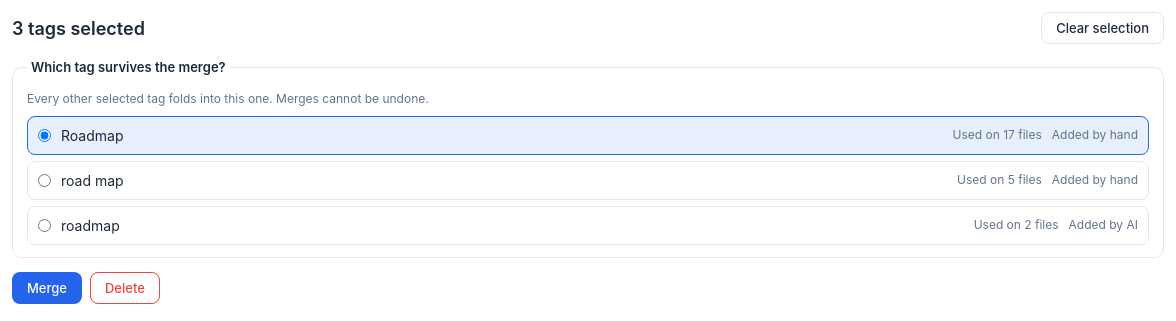
Test: TagBulkSummary › preselects the highest-usage tag as survivor and lets the user switch
Expected: the radio button labelled "Roadmap Used on 17 files Added by hand" is checked, 38,128 -> 51,142
Expected: the text "Used on 17 files" is shown, 952,126 -> 1042,144
Click the radio button labelled "roadmap Used on 2 files Added by AI".
click(44, 225)  # box 38,218 -> 51,232
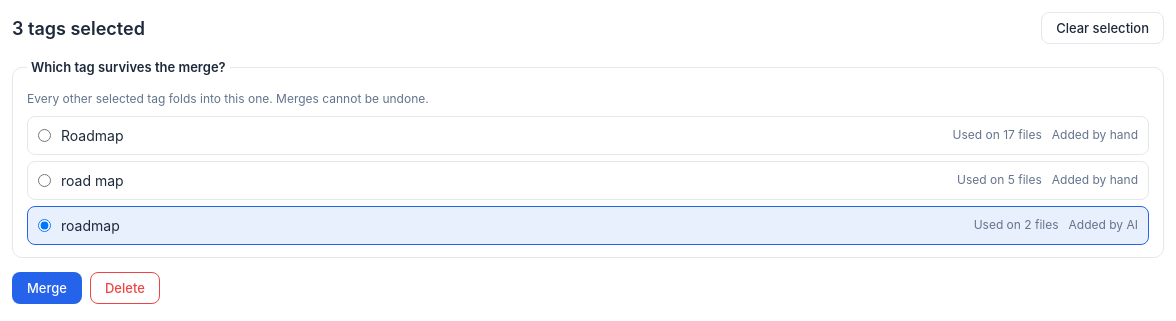
Expected: the radio button labelled "roadmap Used on 2 files Added by AI" is checked, 38,218 -> 51,232
Expected: the radio button labelled "Roadmap Used on 17 files Added by hand" is not checked, 38,128 -> 51,142
